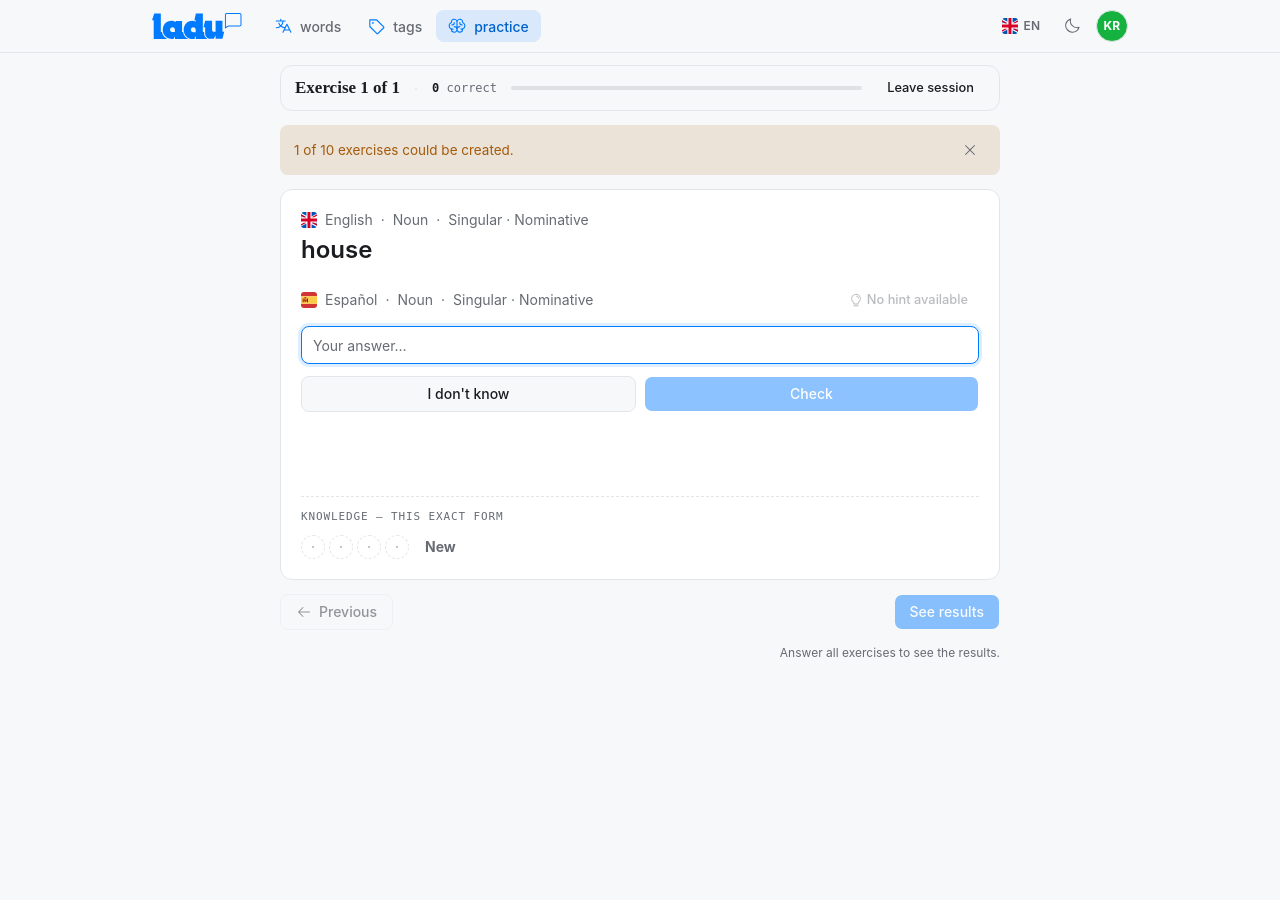
Test case: SessionView — typed answers › sends only one save when Enter is pressed twice
The width and height of the screenshot is (1280, 900).
Type "casa" into the field labelled "Your answer" at (640, 345), box [302,327,978,363]
Then press Enter
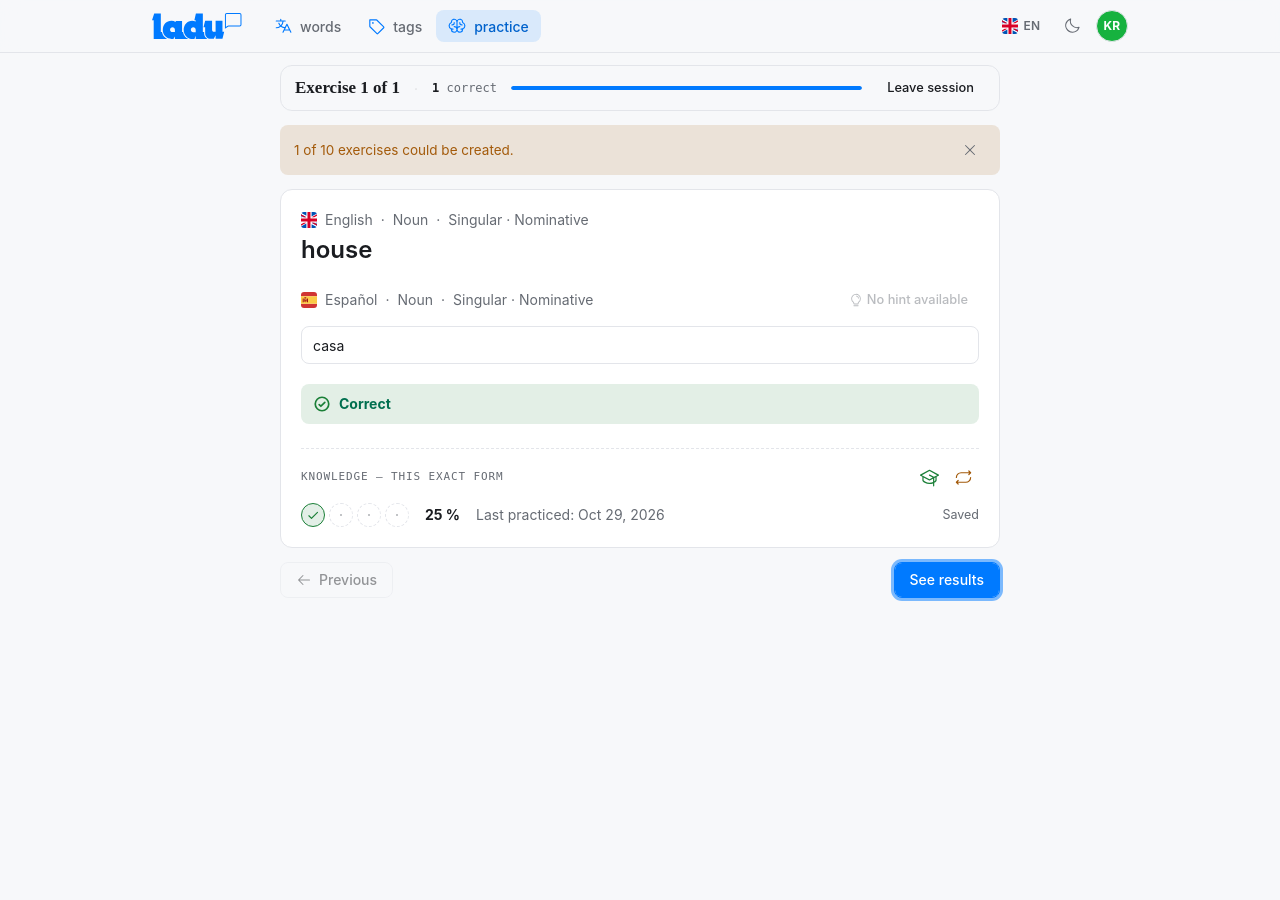
expect the text "Saved" is shown: met, box [942,506,979,524]
